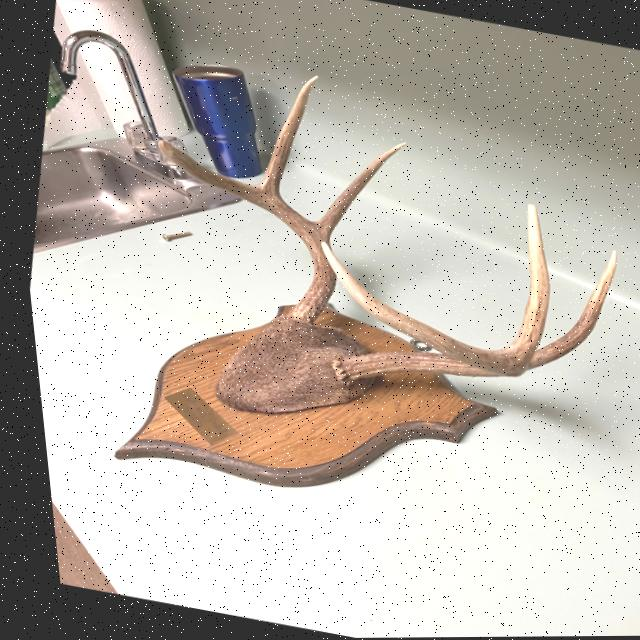L-F: (154, 140, 331, 327)
L-G1: (308, 142, 404, 239)
L-G2: (251, 76, 317, 196)
R-F: (316, 242, 522, 386)
R-G2: (488, 204, 544, 365)
